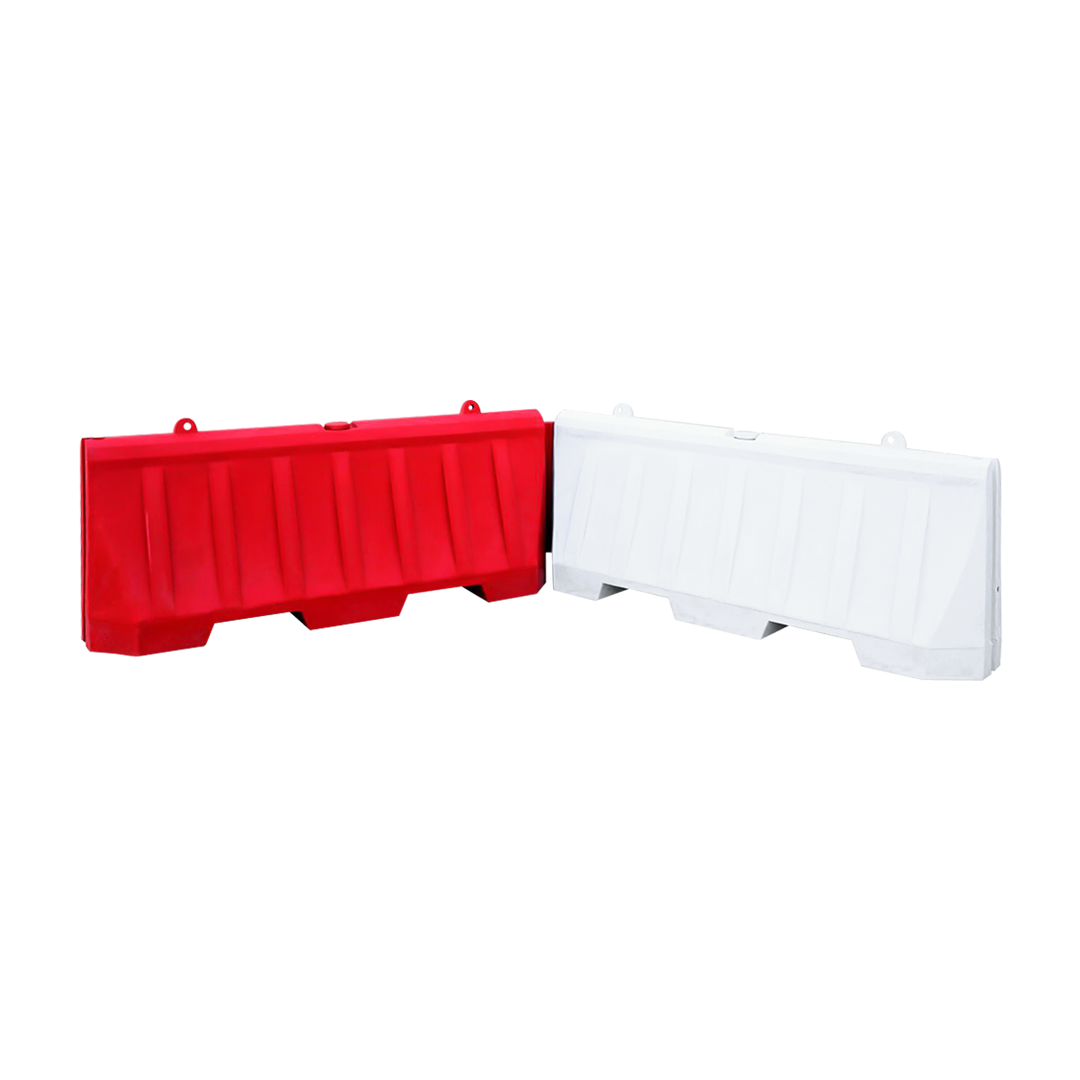Barrier: (48, 377, 1024, 704)
